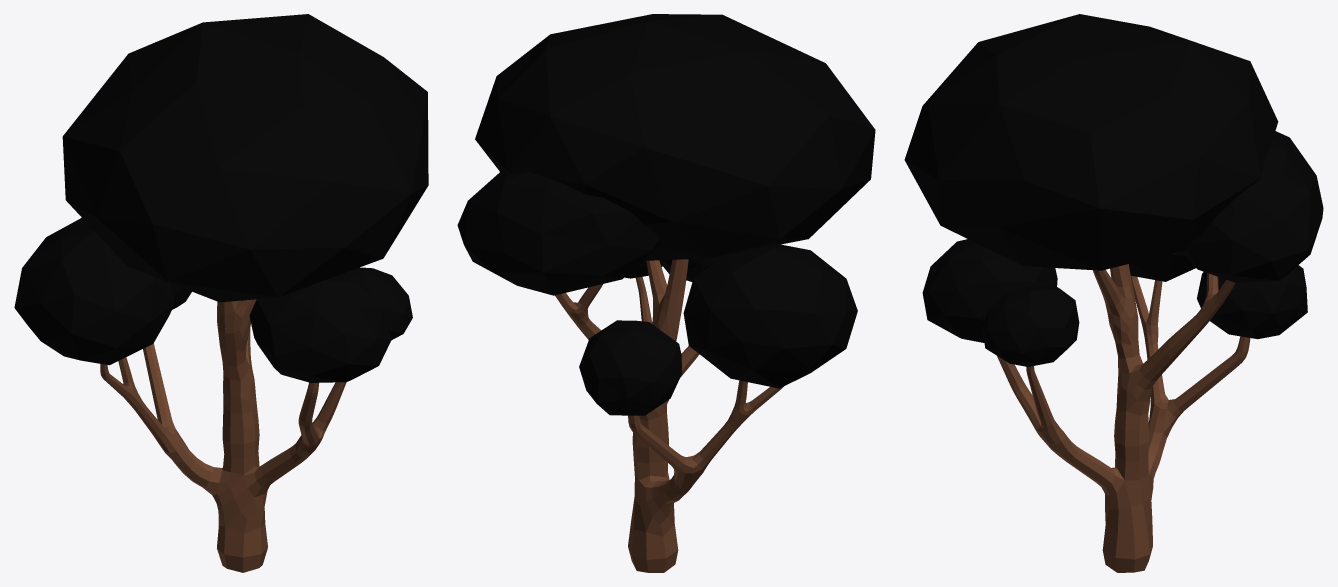
Rendered from Tree_Foliage_Large-3.fbx.
The picture shows the model from 3 angles, left to right: view 1: azimuth 30°, elevation 25°; view 2: azimuth 150°, elevation 25°; view 3: azimuth 270°, elevation 25°; orthographic projection.
Parts seen in each view (by area): view 1: Tree_Foliage_Large-3; view 2: Tree_Foliage_Large-3; view 3: Tree_Foliage_Large-3.
Part boxes in pixels (<box>): Tree_Foliage_Large-3: <box>14,14,428,572</box>; Tree_Foliage_Large-3: <box>457,14,875,572</box>; Tree_Foliage_Large-3: <box>904,14,1323,572</box>.
Size of the model in its own units: 1.21 by 1.62 by 1.17.
